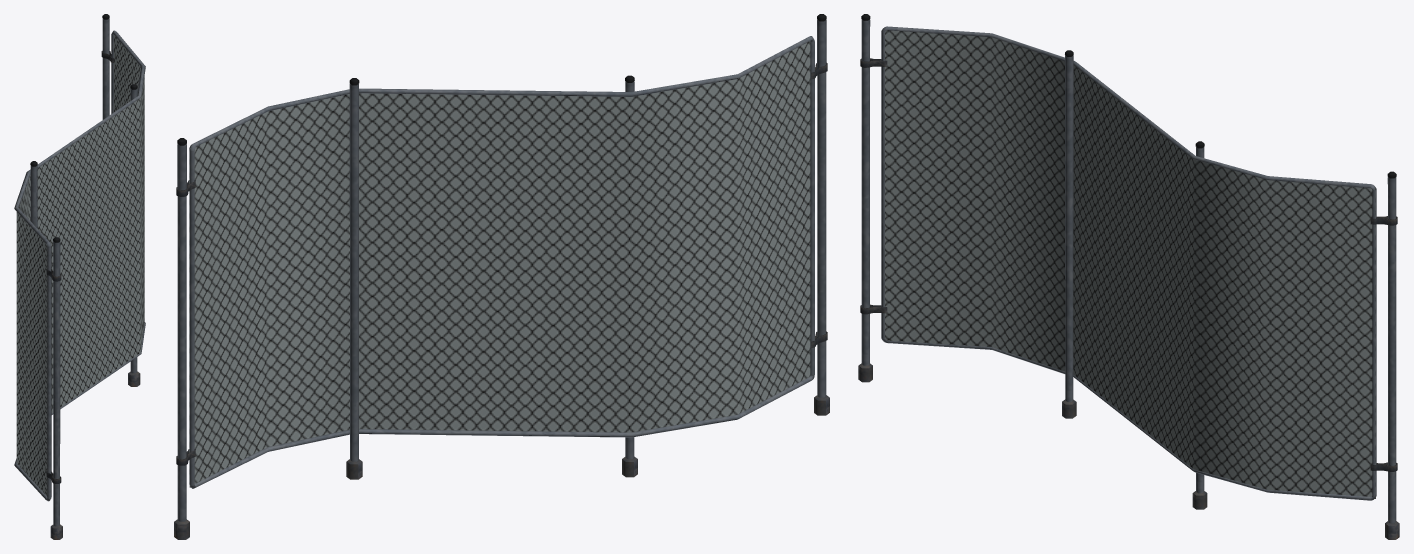
File: Fence_B_B.fbx
The picture shows the model from 3 angles, left to right: view 1: azimuth 30°, elevation 25°; view 2: azimuth 150°, elevation 25°; view 3: azimuth 270°, elevation 25°; orthographic projection. The views are drawn at different scales.
Parts seen in each view (by area): view 1: Fence_B_B; view 2: Fence_B_B; view 3: Fence_B_B.
Boxes of the visible parts, x1,y1,x2,y2 form: Fence_B_B: (14, 14, 145, 539); Fence_B_B: (174, 14, 829, 539); Fence_B_B: (858, 14, 1399, 539).
Size of the model in its own units: 207 by 216 by 290.
